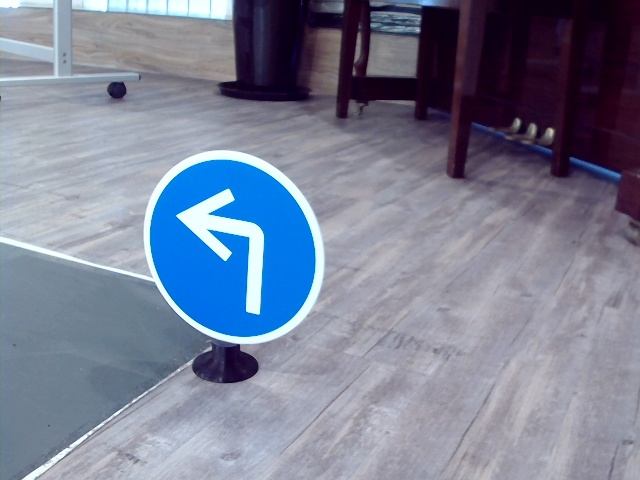turn_left: (171, 186, 277, 313)
